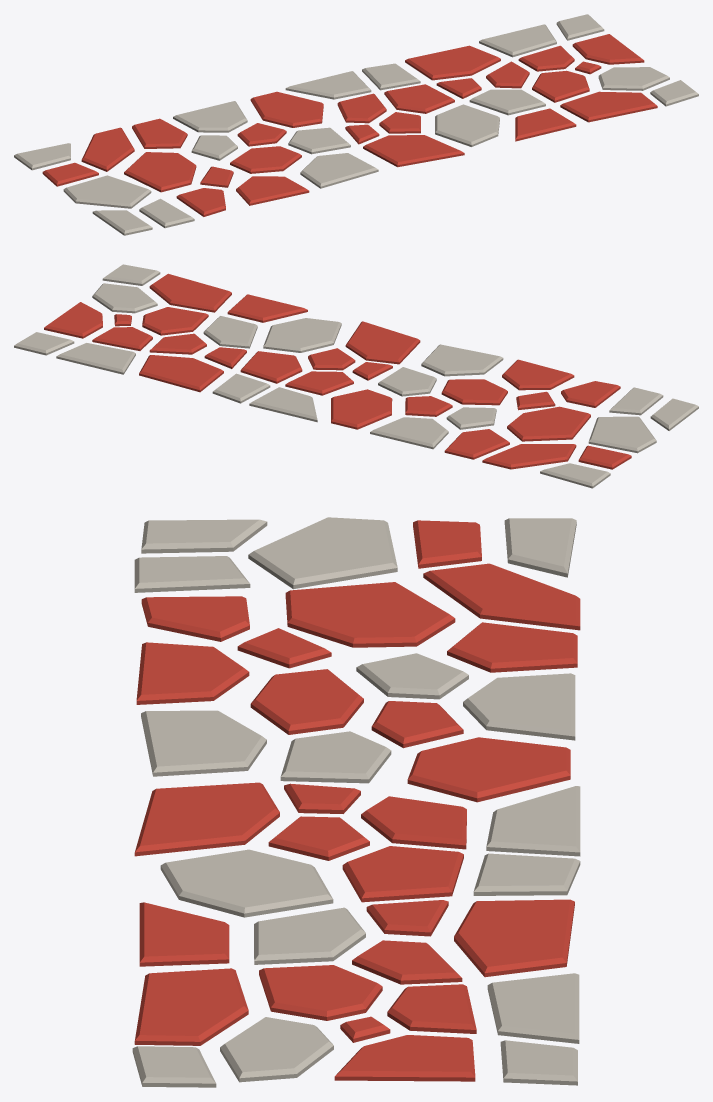
File: Stoneroad_b.gltf
3 renders of one model, top to bottom at view 1: azimuth 30°, elevation 25°; view 2: azimuth 150°, elevation 25°; view 3: azimuth 270°, elevation 25°, orthographic. The views are drawn at different scales.
Parts seen in each view (by area): view 1: Stoneroad_b001; view 2: Stoneroad_b001; view 3: Stoneroad_b001.
Part boxes in pixels (x1=…): Stoneroad_b001: x1=14, y1=14, x2=698, y2=235; Stoneroad_b001: x1=14, y1=264, x2=698, y2=488; Stoneroad_b001: x1=132, y1=517, x2=580, y2=1087.
Size of the model in its own units: 3 by 0.0198 by 1.
1 material, 1 textured.
